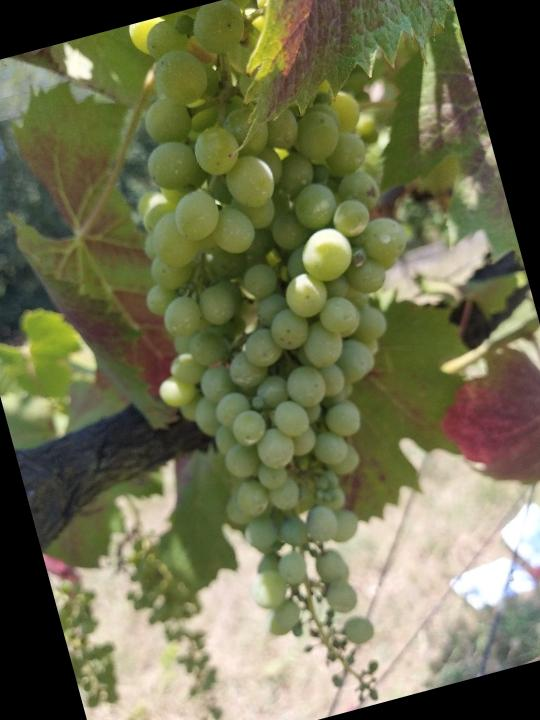grape: (65, 0, 523, 720)
